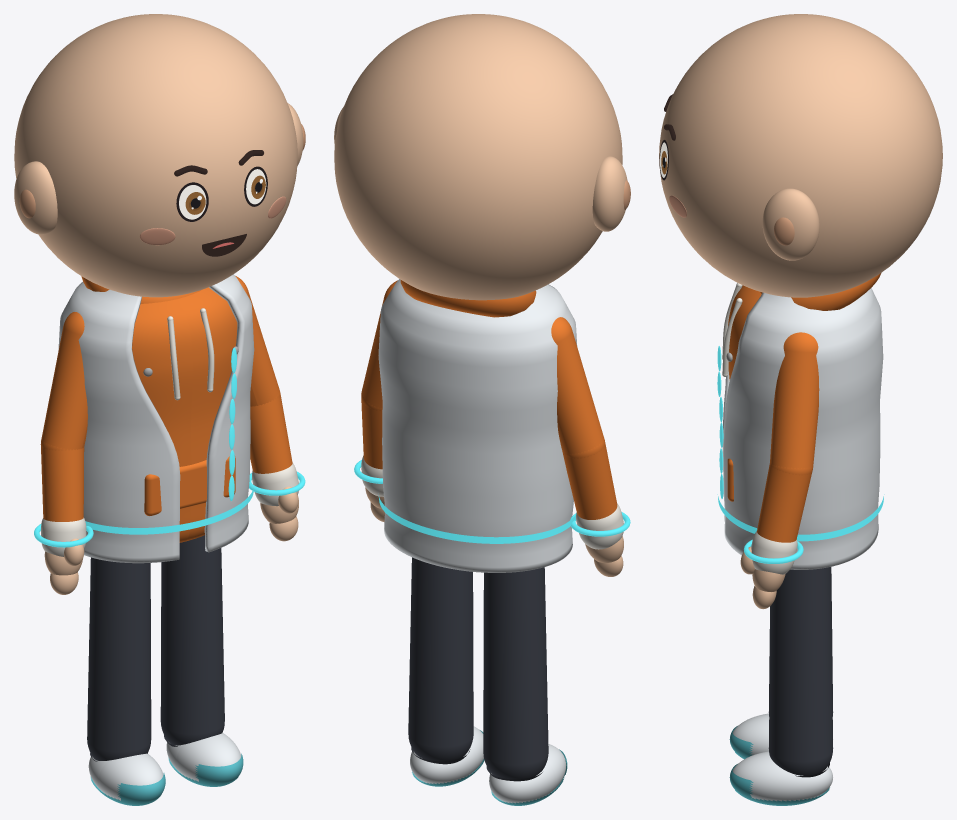
Rendered from hoofdpersonage_2200.glb.
3 views of the same model, side by side, from view 1: azimuth 30°, elevation 25°; view 2: azimuth 150°, elevation 25°; view 3: azimuth 270°, elevation 25° (orthographic).
Visible parts, largest first — view 1: hoofdpersonage_2200_hoofd, hoofdpersonage_2200_jas, hoofdpersonage_2200_romp, hoofdpersonage_2200_been_R, hoofdpersonage_2200_been_L, hoofdpersonage_2200_bovenarm_R, hoofdpersonage_2200_onderarm_R, hoofdpersonage_2200_onderarm_L, hoofdpersonage_2200_oor_R, hoofdpersonage_2200_schoen_R, hoofdpersonage_2200_buidelzak, hoofdpersonage_2200_schoen_L (+8 smaller); view 2: hoofdpersonage_2200_hoofd, hoofdpersonage_2200_jas, hoofdpersonage_2200_been_R, hoofdpersonage_2200_been_L, hoofdpersonage_2200_bovenarm_R, hoofdpersonage_2200_onderarm_R, hoofdpersonage_2200_oor_R, hoofdpersonage_2200_schoen_R, hoofdpersonage_2200_capuchon, hoofdpersonage_2200_schoen_L, hoofdpersonage_2200_gloei_band0, hoofdpersonage_2200_onderarm_L (+3 smaller); view 3: hoofdpersonage_2200_hoofd, hoofdpersonage_2200_jas, hoofdpersonage_2200_been_L, hoofdpersonage_2200_bovenarm_L, hoofdpersonage_2200_onderarm_L, hoofdpersonage_2200_schoen_L, hoofdpersonage_2200_oor_L, hoofdpersonage_2200_manchet_L, hoofdpersonage_2200_capuchon, hoofdpersonage_2200_romp, hoofdpersonage_2200_schoen_R, hoofdpersonage_2200_gloei_band0 (+1 smaller).
Boxes of the visible parts, x1,y1,x2,y2 form: hoofdpersonage_2200_hoofd: (14,14,297,297); hoofdpersonage_2200_jas: (58,274,254,563); hoofdpersonage_2200_romp: (132,287,237,542); hoofdpersonage_2200_been_R: (87,557,151,760); hoofdpersonage_2200_been_L: (160,535,224,745); hoofdpersonage_2200_bovenarm_R: (41,312,87,450); hoofdpersonage_2200_onderarm_R: (41,443,84,521); hoofdpersonage_2200_onderarm_L: (250,393,292,473); hoofdpersonage_2200_oor_R: (14,161,57,234); hoofdpersonage_2200_schoen_R: (88,753,163,800); hoofdpersonage_2200_buidelzak: (144,456,235,516); hoofdpersonage_2200_schoen_L: (166,732,241,781); hoofdpersonage_2200_hoofd: (334,14,622,300); hoofdpersonage_2200_jas: (378,279,577,572); hoofdpersonage_2200_been_R: (483,567,548,779); hoofdpersonage_2200_been_L: (408,557,473,761); hoofdpersonage_2200_bovenarm_R: (551,317,604,457); hoofdpersonage_2200_onderarm_R: (563,442,617,519); hoofdpersonage_2200_oor_R: (592,156,627,231); hoofdpersonage_2200_schoen_R: (489,744,566,803); hoofdpersonage_2200_capuchon: (400,280,536,317); hoofdpersonage_2200_schoen_L: (410,726,483,783); hoofdpersonage_2200_gloei_band0: (378,496,576,543); hoofdpersonage_2200_onderarm_L: (361,395,382,469); hoofdpersonage_2200_hoofd: (659,14,942,297); hoofdpersonage_2200_jas: (722,288,883,569); hoofdpersonage_2200_been_L: (768,567,833,775); hoofdpersonage_2200_bovenarm_L: (770,332,819,474); hoofdpersonage_2200_onderarm_L: (757,463,812,542); hoofdpersonage_2200_schoen_L: (732,751,832,801); hoofdpersonage_2200_oor_L: (762,188,819,260); hoofdpersonage_2200_manchet_L: (751,531,797,574); hoofdpersonage_2200_capuchon: (760,273,881,310); hoofdpersonage_2200_romp: (728,285,761,379); hoofdpersonage_2200_schoen_R: (732,713,769,756); hoofdpersonage_2200_gloei_band0: (717,494,884,541).
Bounding box in the file's own units: 0.6887 × 1.76 × 0.6.
